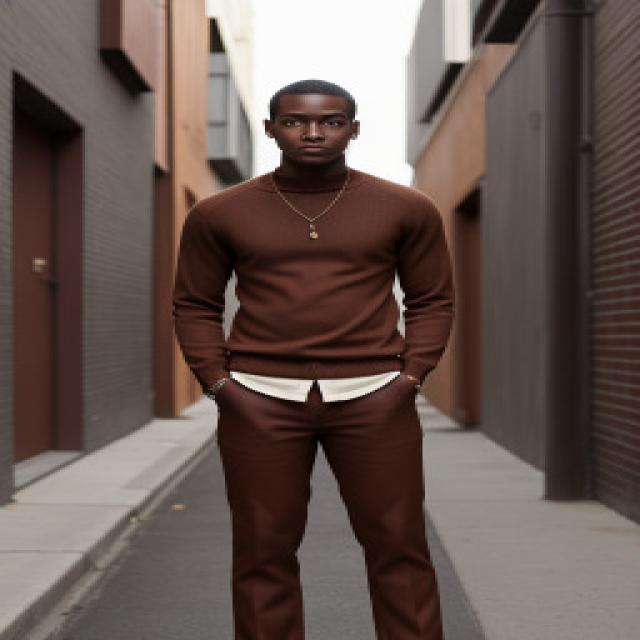Ai human 2: (152, 65, 502, 640)
